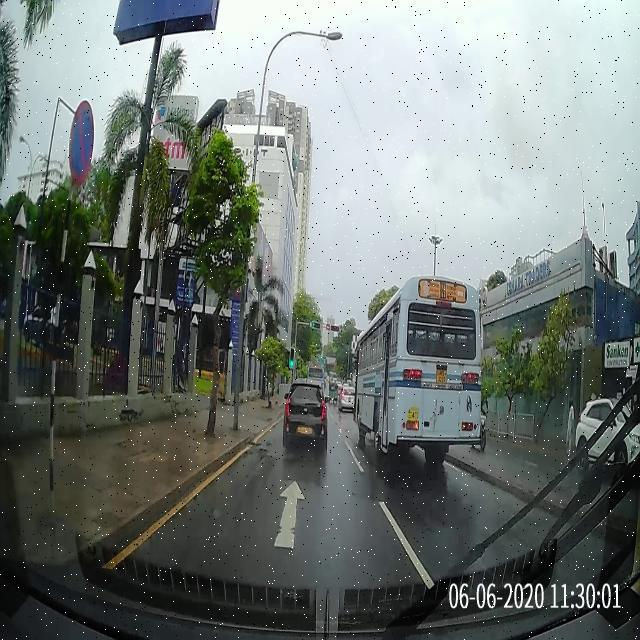forward: (121, 464, 426, 564)
